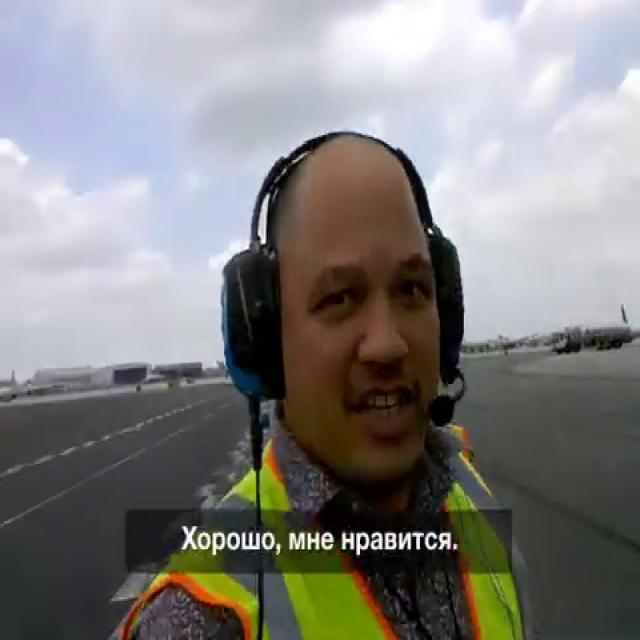earmuff: (218, 243, 289, 412), (426, 225, 474, 387)
